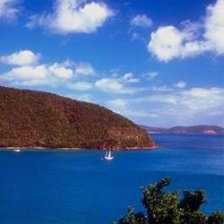neutral: (2, 47, 221, 224)
